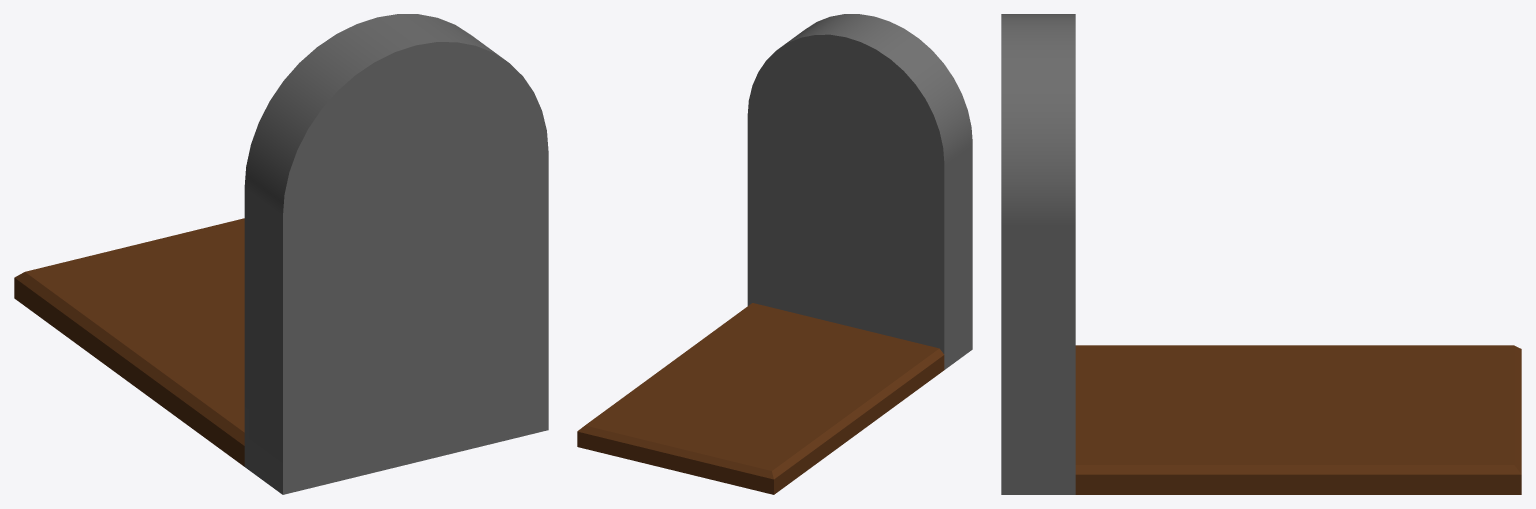
File: grave.fbx
The picture shows the model from 3 angles, left to right: view 1: azimuth 30°, elevation 25°; view 2: azimuth 150°, elevation 25°; view 3: azimuth 270°, elevation 25°; orthographic projection. The views are drawn at different scales.
Parts seen in each view (by area): view 1: pCylinder2; view 2: pCylinder2; view 3: pCylinder2.
Boxes of the visible parts, box(x1,y1,x2,y2) form: pCylinder2: box(14, 14, 548, 494); pCylinder2: box(577, 14, 972, 494); pCylinder2: box(1001, 14, 1521, 494).
Size of the model in its own units: 2 by 3 by 3.5.
